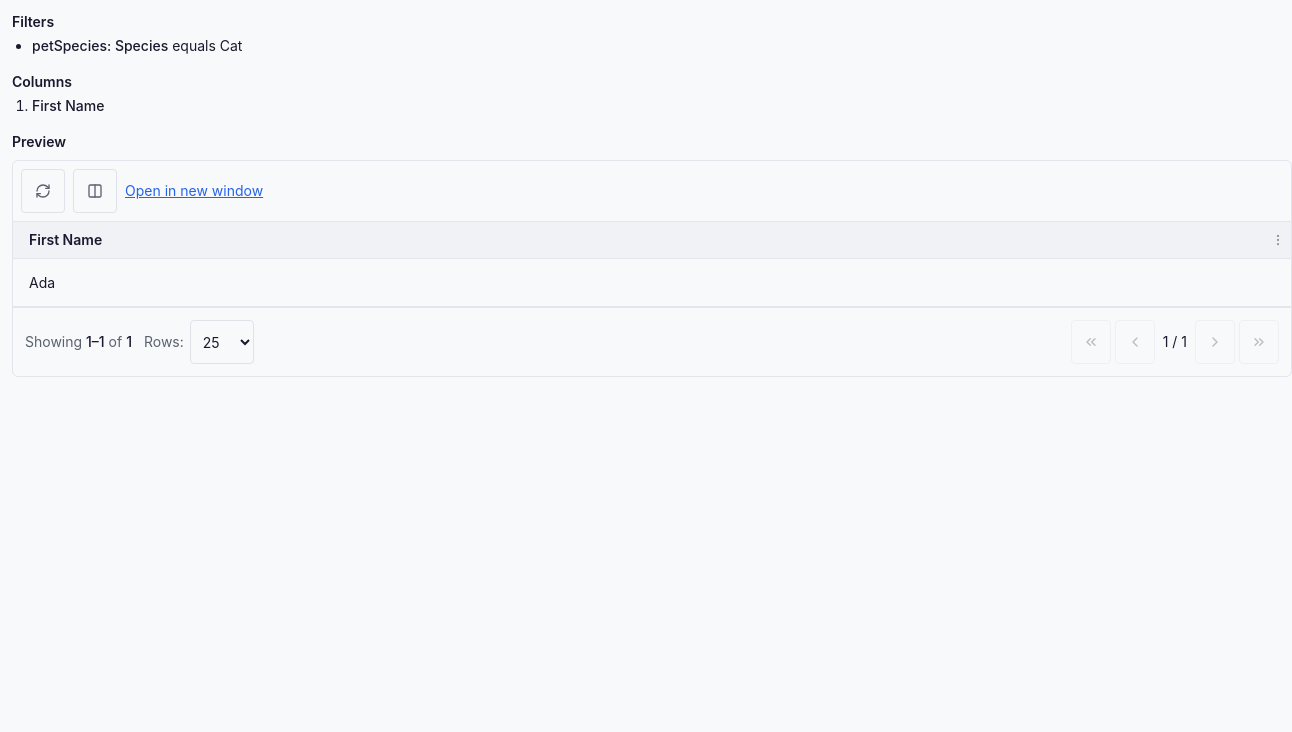
it: FilterAndColumnsSetupWidget › keeps an existing omitted-join filter value visible when opening preview filters
This screenshot has width=1292, height=732.
Click the button named "First Name column menu" at [1278, 240], box [1269,231,1287,249]
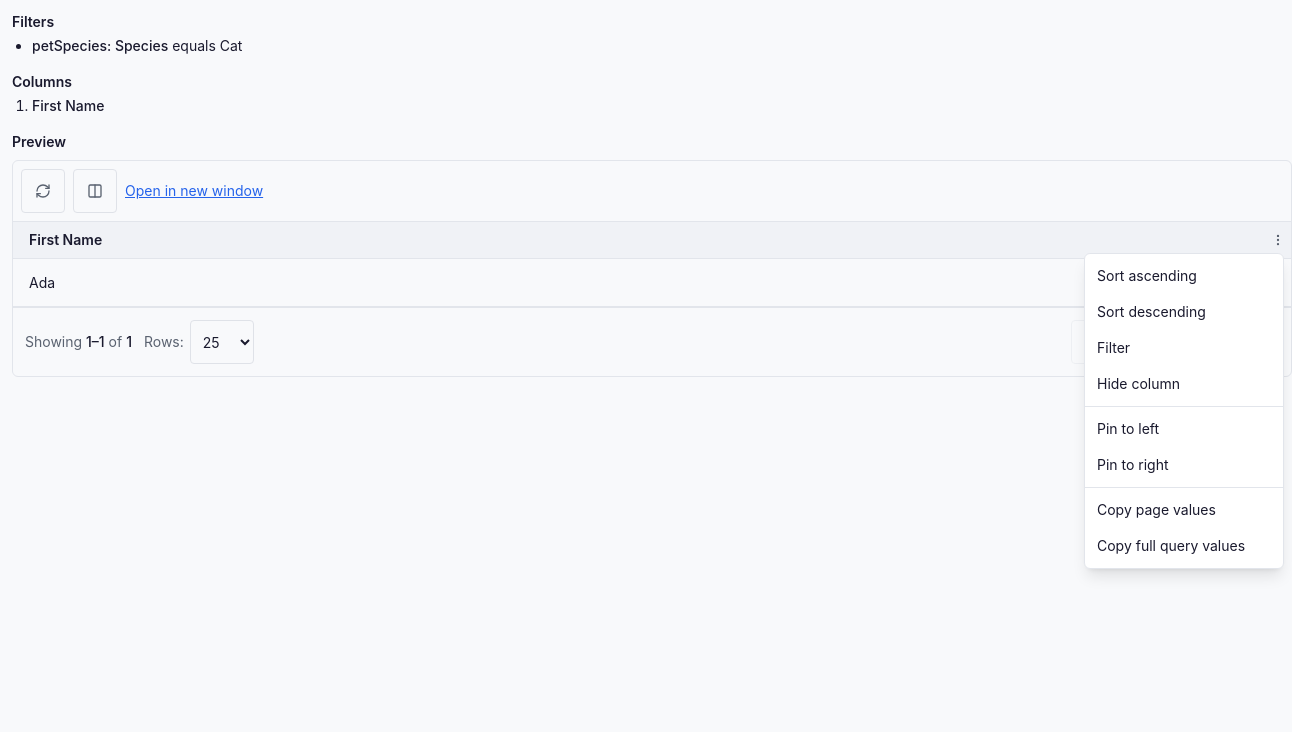
Click the menu item "Filter" at [1114, 348], box [1097,339,1130,356]
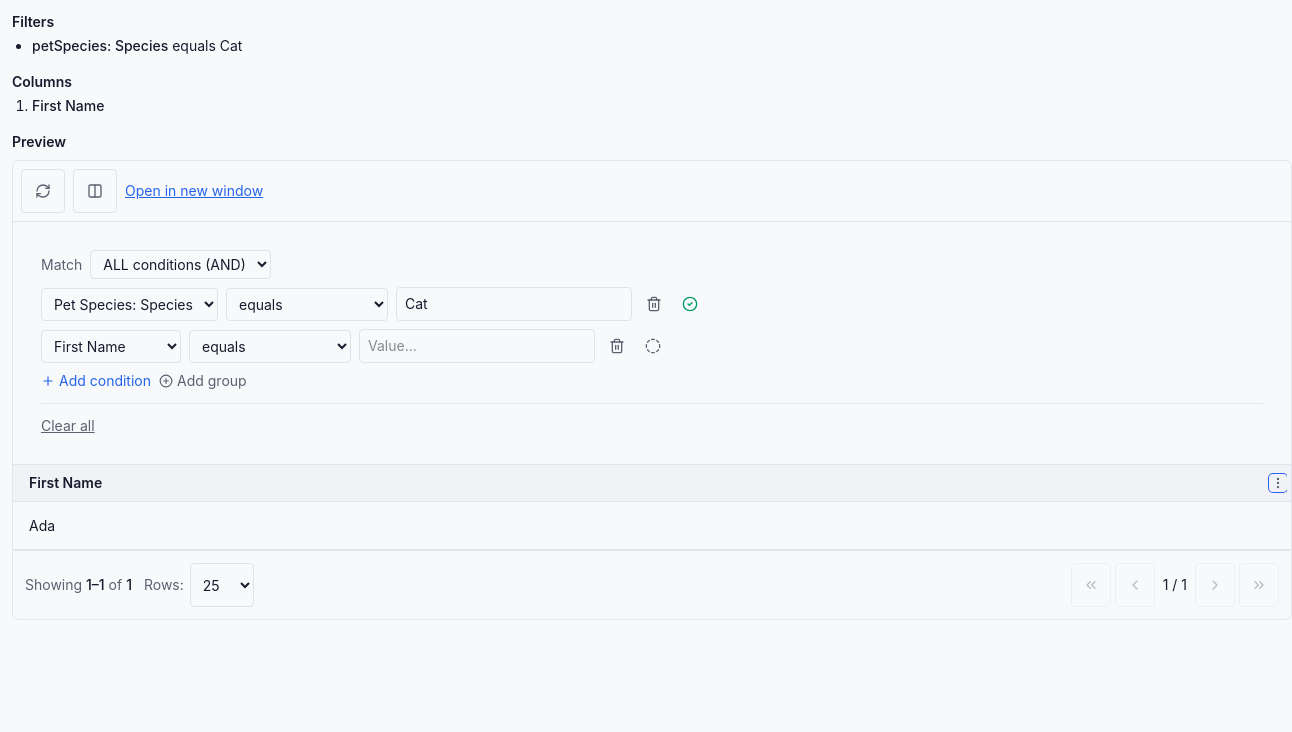
Expected: the field named "Filter value for Pet Species: Species" holds "Cat", [396,287,632,321]
